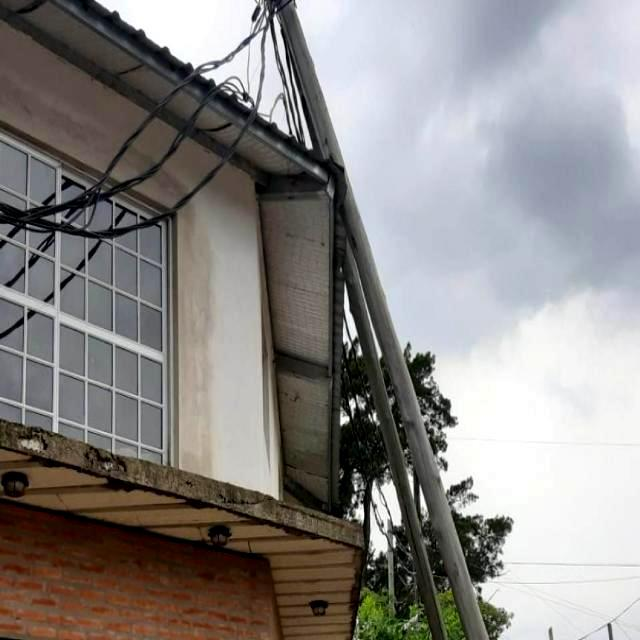Broken Pole: (272, 0, 492, 640), (342, 243, 449, 640)
